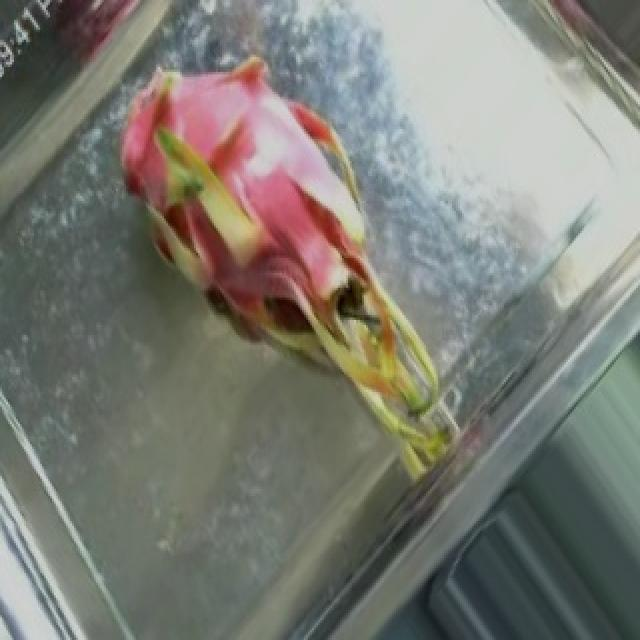fruit: (38, 8, 466, 462)
